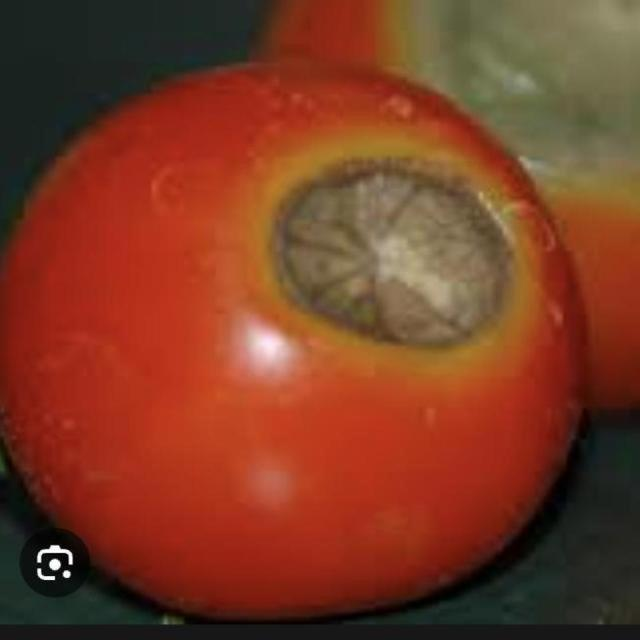Blossom End Rot Fruit: (169, 63, 341, 169)
